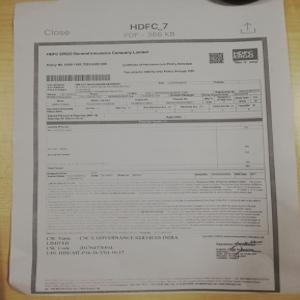image: (230, 46, 259, 62)
table: (43, 116, 263, 170), (43, 78, 265, 116)
text: (43, 232, 185, 259), (46, 48, 150, 58)
